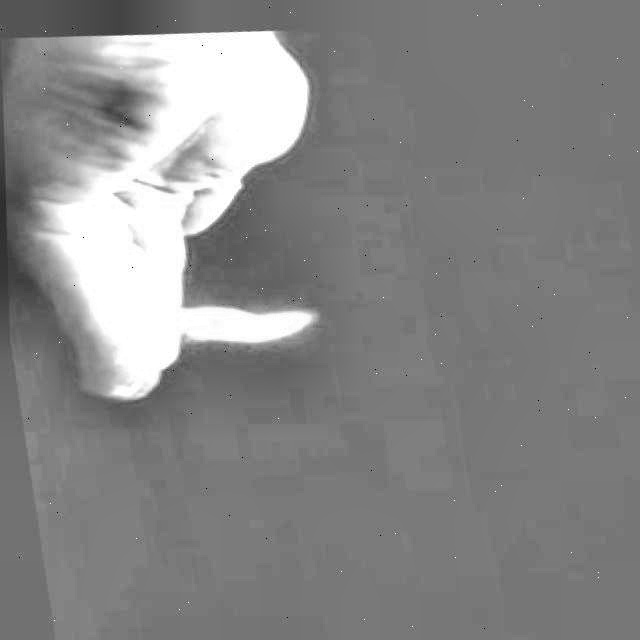Fire: (128, 266, 320, 366)
